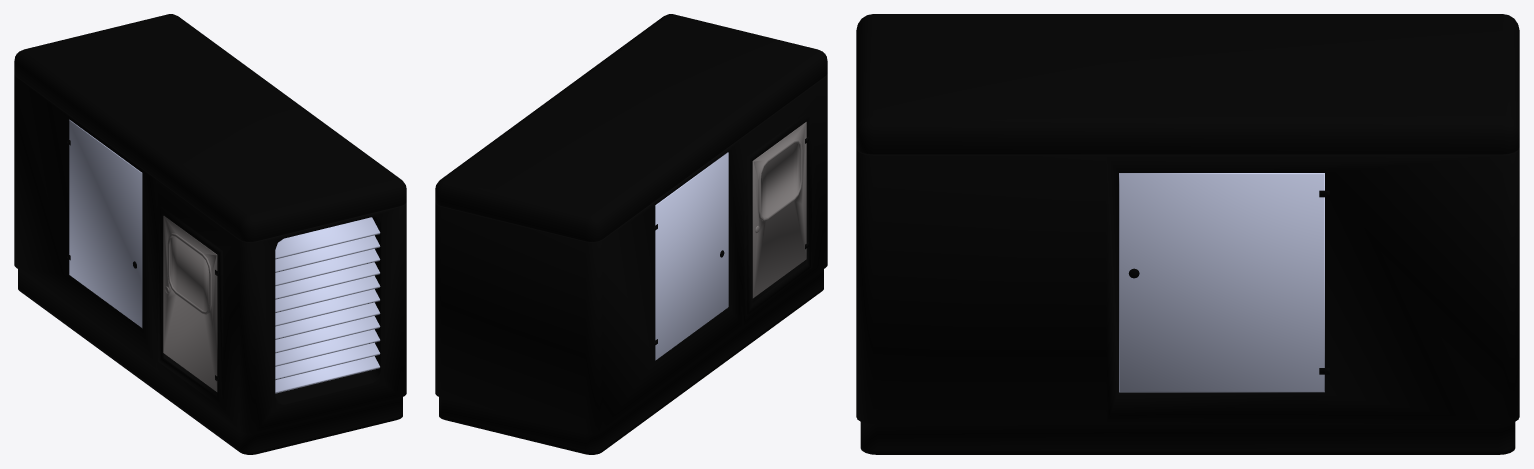
File: uploads_files_4896691_gen.fbx
3 views of the same model, side by side, from view 1: azimuth 30°, elevation 25°; view 2: azimuth 150°, elevation 25°; view 3: azimuth 270°, elevation 25° (orthographic). The views are drawn at different scales.
Parts seen in each view (by area): view 1: lambert1 (×4); view 2: lambert1 (×3); view 3: lambert1 (×2).
Part boxes in pixels (left/top/right/bottom): lambert1 (×4): left=14, top=14, right=406, bottom=454; lambert1 (×3): left=435, top=14, right=827, bottom=454; lambert1 (×2): left=856, top=14, right=1519, bottom=454.
Bounding box in the file's own units: 40.24 × 53.9 × 96.98.
